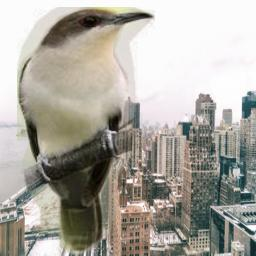Cuckoo: (17, 7, 155, 255)
